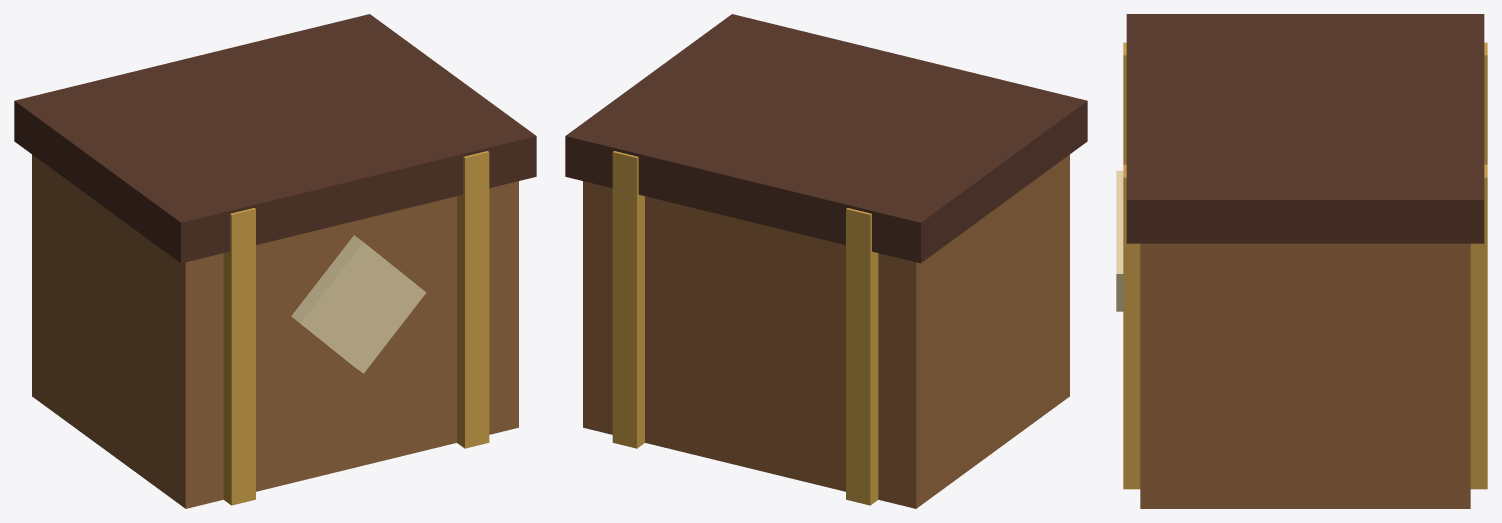
File: GreenwoodSupplyCache.glb
The picture shows the model from 3 angles, left to right: view 1: azimuth 30°, elevation 25°; view 2: azimuth 150°, elevation 25°; view 3: azimuth 270°, elevation 25°; orthographic projection. The views are drawn at different scales.
Visible parts, largest first — view 1: GreenwoodSupplyCache; view 2: GreenwoodSupplyCache; view 3: GreenwoodSupplyCache.
Boxes of the visible parts, x1,y1,x2,y2 form: GreenwoodSupplyCache: (14,14,536,508); GreenwoodSupplyCache: (565,14,1087,508); GreenwoodSupplyCache: (1116,14,1487,508).
Size of the model in its own units: 3.2 by 2.53 by 2.7.
